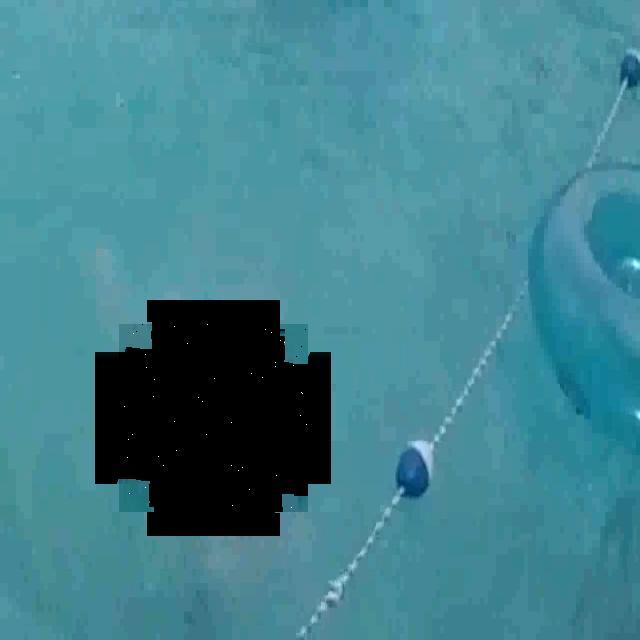Out of Water: (119, 324, 308, 512)
